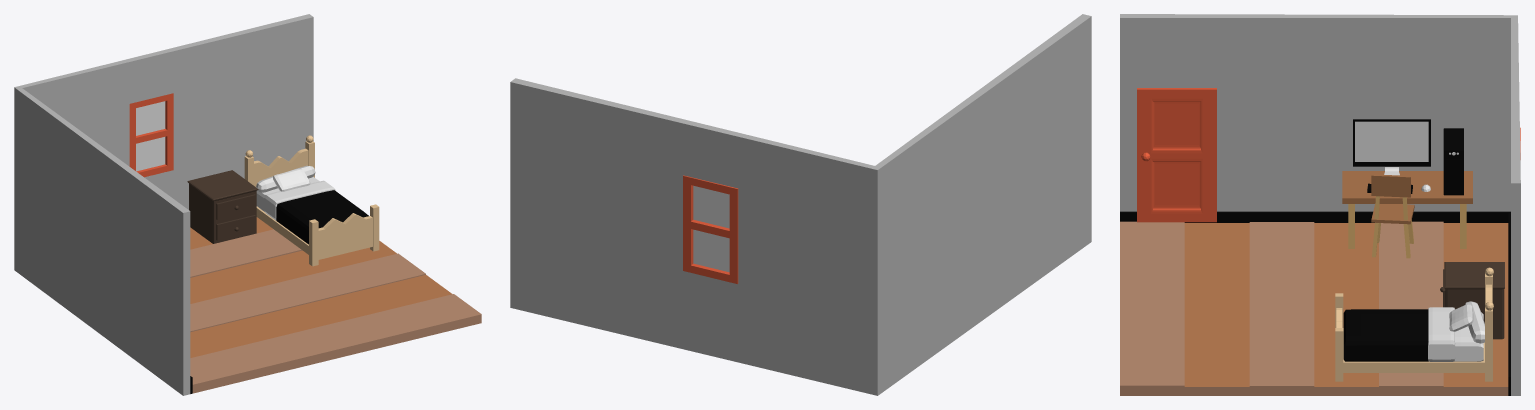
Rendered from Gemastik Low Poly.fbx.
The picture shows the model from 3 angles, left to right: view 1: azimuth 30°, elevation 25°; view 2: azimuth 150°, elevation 25°; view 3: azimuth 270°, elevation 25°; orthographic projection. The views are drawn at different scales.
Visible parts, largest first — view 1: Tembok, Ruangan, Jendela, Lemari, Selimut, Kasur Kayu Belakang, Selimut Lipet, Kasur Kayu Depan, Kasur Pilar Belakang, Laci Bawah, Laci Atas, Bantal (+2 smaller); view 2: Tembok, Jendela; view 3: Tembok, Ruangan, Pintu, Selimut, Monitor Layar, Lemari, Meja, Kasur Kayu Matras, Selimut Lipet, PC, Kursi Sandaran, Matras (+7 smaller).
Boxes of the visible parts, x1=… form: Tembok: x1=14, y1=14, x2=313, y2=395; Ruangan: x1=190, y1=217, x2=481, y2=393; Jendela: x1=129, y1=93, x2=173, y2=177; Lemari: x1=187, y1=170, x2=258, y2=243; Selimut: x1=276, y1=190, x2=368, y2=244; Kasur Kayu Belakang: x1=318, y1=213, x2=372, y2=259; Selimut Lipet: x1=264, y1=180, x2=335, y2=220; Kasur Kayu Depan: x1=254, y1=148, x2=308, y2=186; Kasur Pilar Belakang: x1=309, y1=204, x2=379, y2=266; Laci Bawah: x1=216, y1=215, x2=255, y2=240; Laci Atas: x1=216, y1=194, x2=255, y2=219; Bantal: x1=273, y1=168, x2=310, y2=191; Tembok: x1=510, y1=14, x2=1091, y2=395; Jendela: x1=683, y1=175, x2=738, y2=283; Tembok: x1=1120, y1=14, x2=1520, y2=395; Ruangan: x1=1120, y1=211, x2=1510, y2=395; Pintu: x1=1137, y1=88, x2=1216, y2=222; Selimut: x1=1343, y1=309, x2=1428, y2=361; Monitor Layar: x1=1353, y1=119, x2=1430, y2=166; Lemari: x1=1444, y1=262, x2=1504, y2=339; Meja: x1=1342, y1=171, x2=1472, y2=203; Kasur Kayu Matras: x1=1343, y1=328, x2=1484, y2=372; Selimut Lipet: x1=1428, y1=307, x2=1455, y2=361; PC: x1=1443, y1=128, x2=1463, y2=195; Kursi Sandaran: x1=1371, y1=174, x2=1410, y2=197; Matras: x1=1454, y1=312, x2=1483, y2=361.
Bounding box in the file's own units: 1025 × 600 × 1025.
